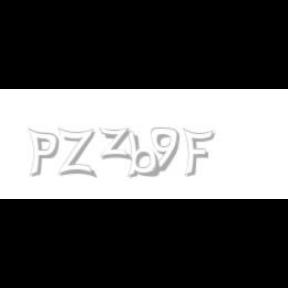9: (150, 128, 180, 172)
F: (182, 128, 214, 178)
P: (27, 128, 59, 178)
Z: (58, 128, 94, 178)
b: (125, 128, 163, 178)
z: (98, 128, 134, 160)
